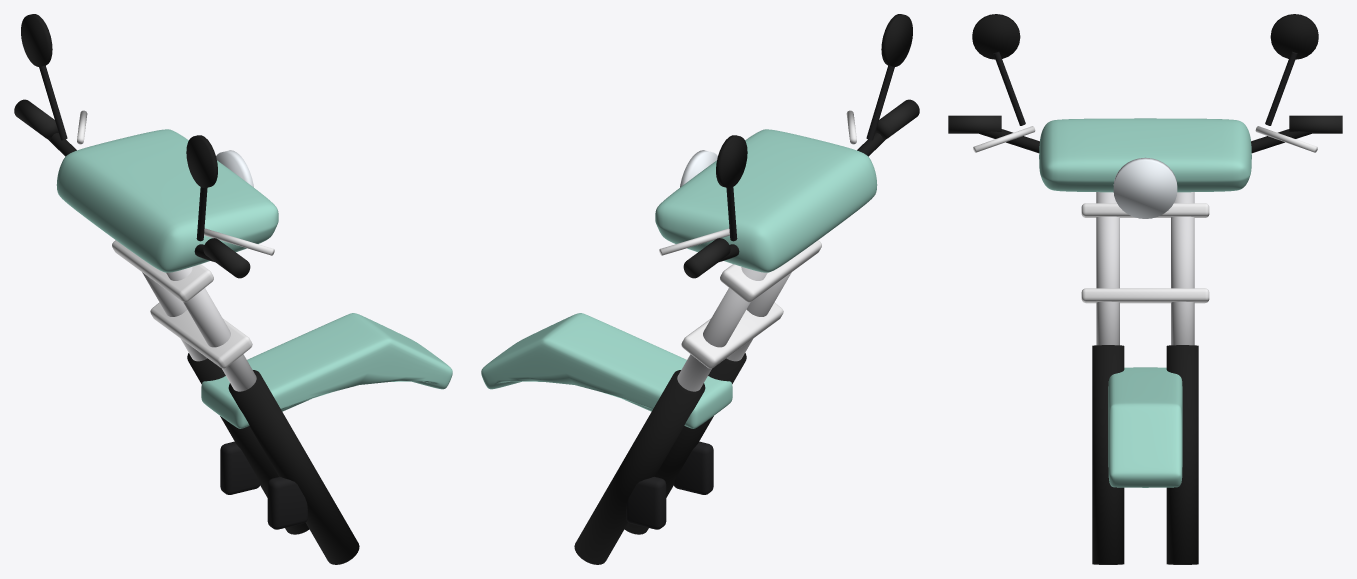
File: SCOOTER125_Sterzo.glb
The picture shows the model from 3 angles, left to right: view 1: azimuth 30°, elevation 25°; view 2: azimuth 150°, elevation 25°; view 3: azimuth 270°, elevation 25°; orthographic projection. The views are drawn at different scales.
Visible parts, largest first — view 1: SCOOTER125_Sterzo; view 2: SCOOTER125_Sterzo; view 3: SCOOTER125_Sterzo.
Boxes of the visible parts, bbox=[...] form: SCOOTER125_Sterzo: bbox=[14, 14, 452, 564]; SCOOTER125_Sterzo: bbox=[481, 14, 919, 564]; SCOOTER125_Sterzo: bbox=[948, 14, 1342, 564].
Bounding box in the file's own units: 0.6433 × 0.9656 × 0.74.
